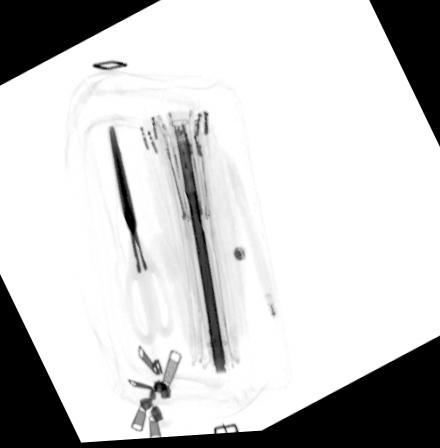Scissors: (107, 127, 174, 346)
